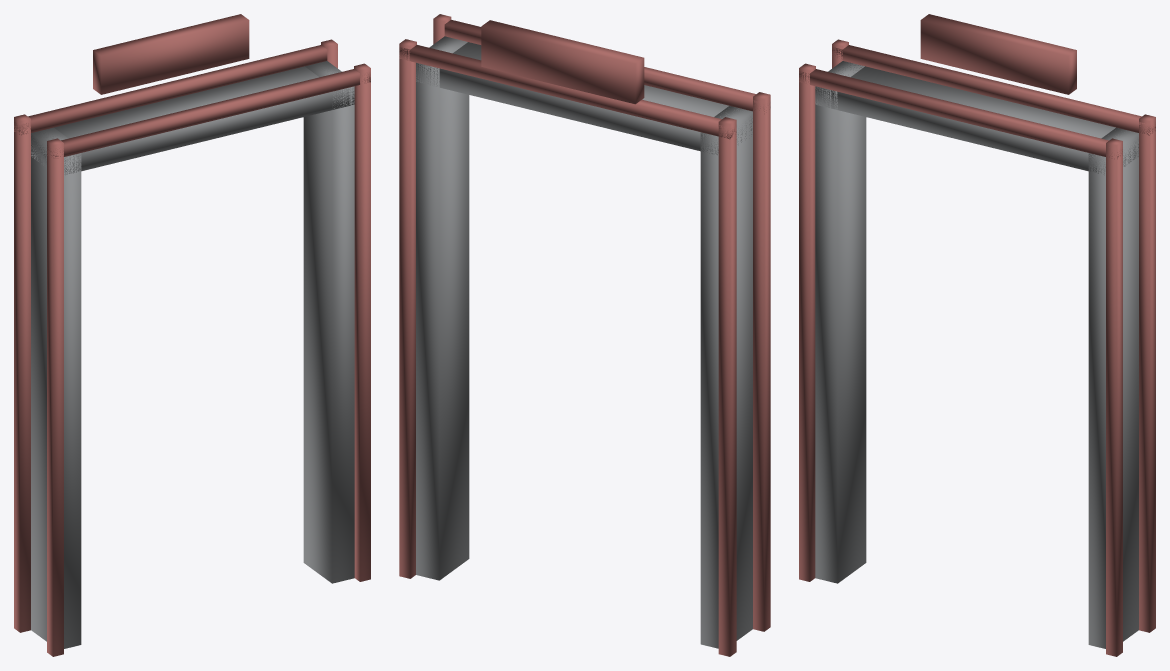
The model's file is doorway_emergency_exit_w122_h220_d24.glb.
3 views of the same model, side by side, from view 1: azimuth 30°, elevation 25°; view 2: azimuth 150°, elevation 25°; view 3: azimuth 330°, elevation 25° (orthographic). The views are drawn at different scales.
Parts seen in each view (by area): view 1: world; view 2: world; view 3: world.
Boxes of the visible parts, x1,y1,x2,y2 form: world: [14, 14, 370, 656]; world: [399, 14, 770, 656]; world: [799, 14, 1155, 656].
Bounding box in the file's own units: 1.55 × 2.57 × 0.3798.
